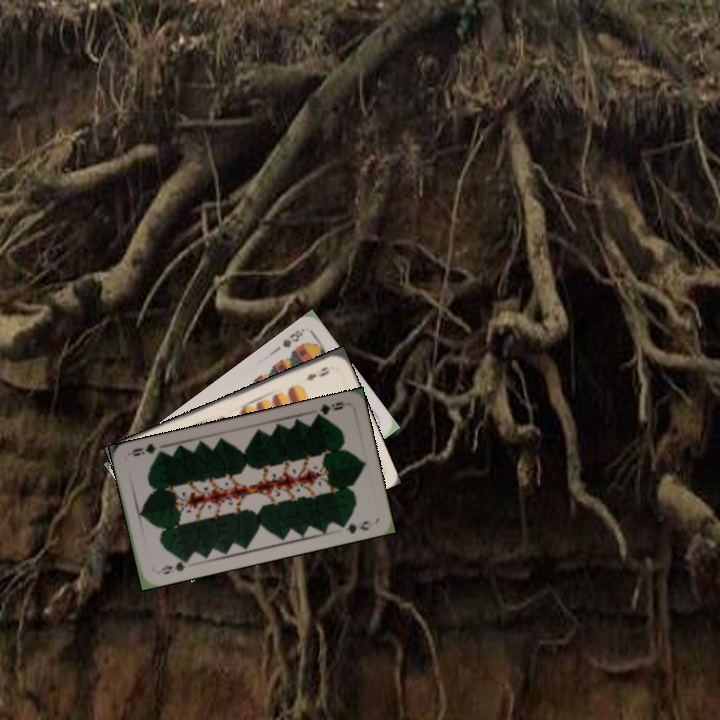E9: (301, 363, 332, 383)
G9: (311, 398, 349, 422), (153, 555, 192, 577)
S8: (278, 325, 307, 351)
